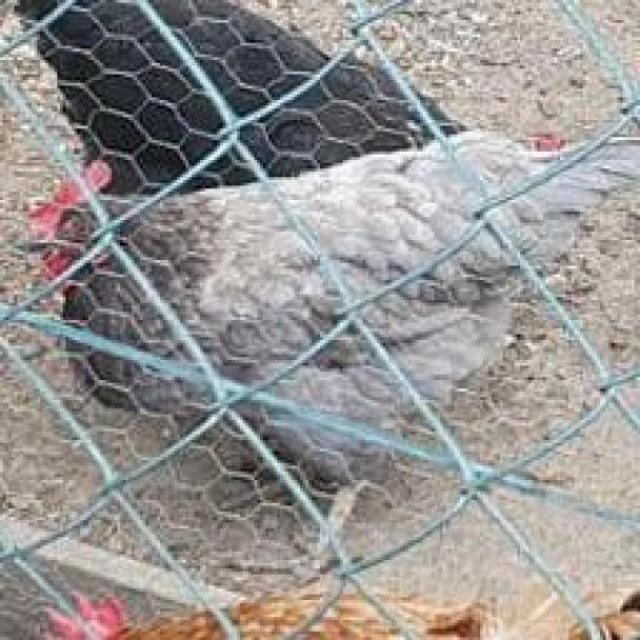Chicken: (38, 149, 640, 583)
